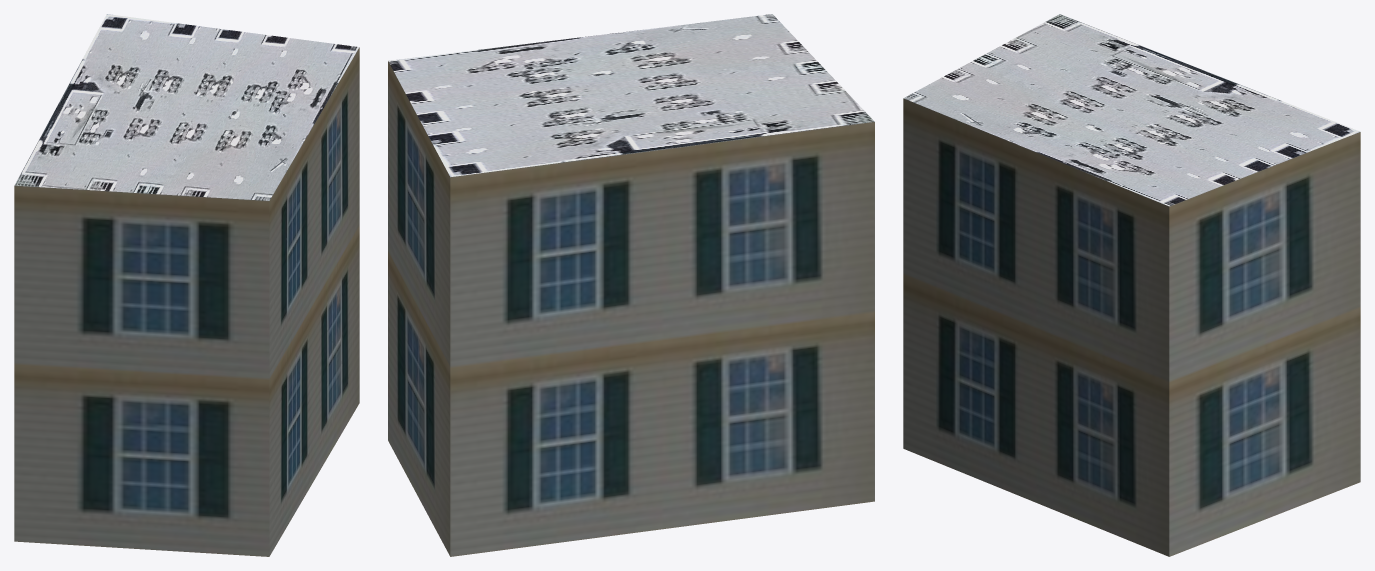
The model's file is ResTex__2505.fbx.
3 views of the same model, side by side, from view 1: azimuth 30°, elevation 25°; view 2: azimuth 150°, elevation 25°; view 3: azimuth 270°, elevation 25° (orthographic). The views are drawn at different scales.
Visible parts, largest first — view 1: CityEngineMaterial_7_m, CityEngineMaterial_4_m; view 2: CityEngineMaterial_7_m, CityEngineMaterial_4_m; view 3: CityEngineMaterial_7_m, CityEngineMaterial_4_m.
Part boxes in pixels (bbox=[...]): CityEngineMaterial_7_m: bbox=[14, 47, 359, 556]; CityEngineMaterial_4_m: bbox=[14, 14, 359, 200]; CityEngineMaterial_7_m: bbox=[388, 61, 874, 556]; CityEngineMaterial_4_m: bbox=[388, 14, 874, 177]; CityEngineMaterial_7_m: bbox=[903, 98, 1360, 556]; CityEngineMaterial_4_m: bbox=[903, 14, 1360, 206].
Bounding box in the file's own units: 7.07 × 6 × 7.1.
Materials: 2 (2 with a texture image).
